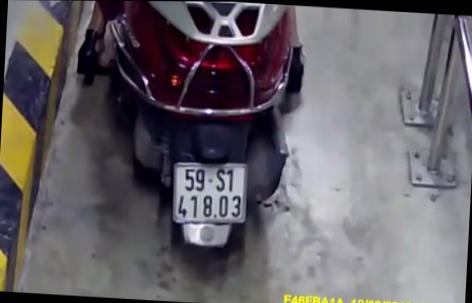LP: (167, 157, 252, 228)
